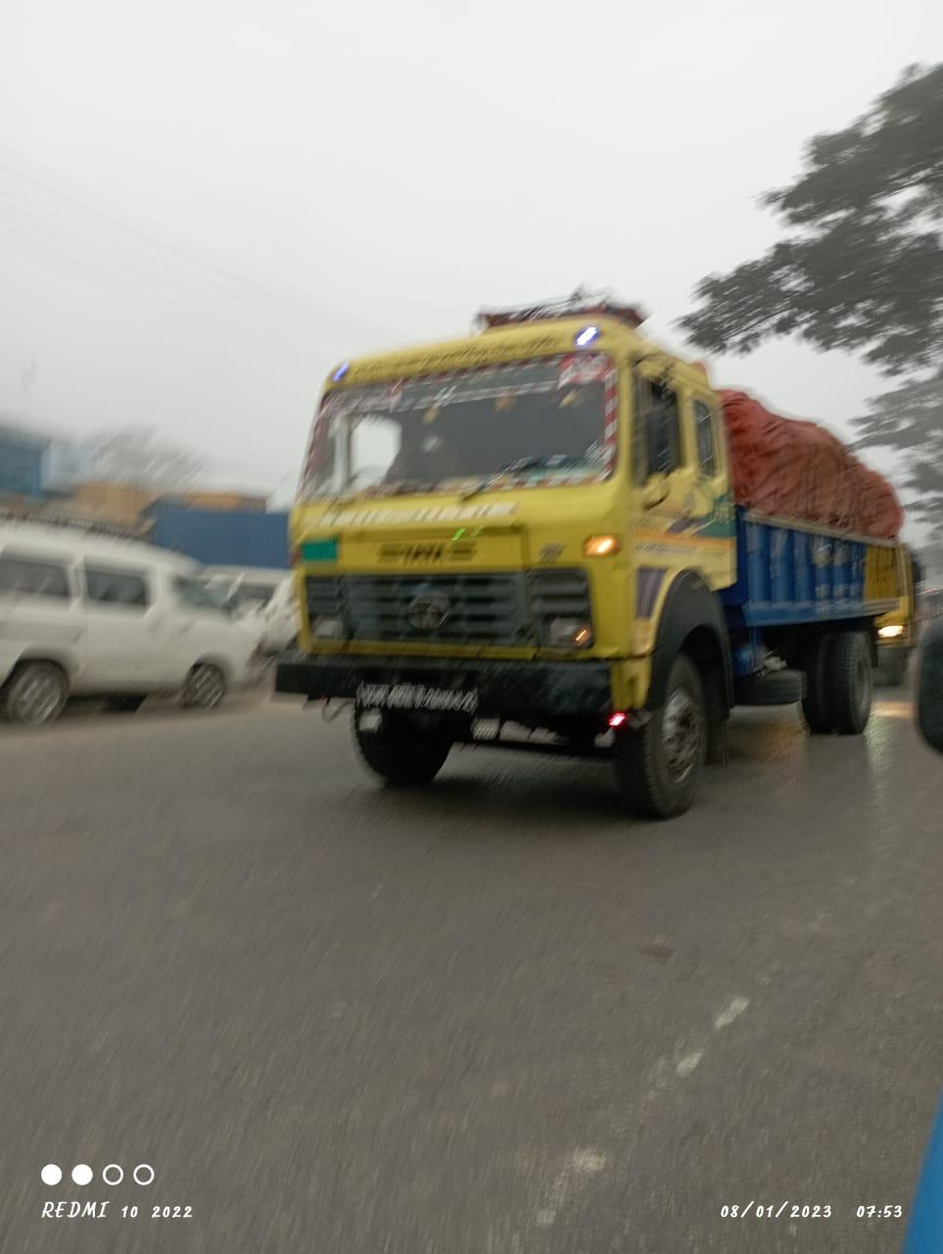Car: (1, 503, 266, 741)
Truck: (271, 297, 897, 824)
